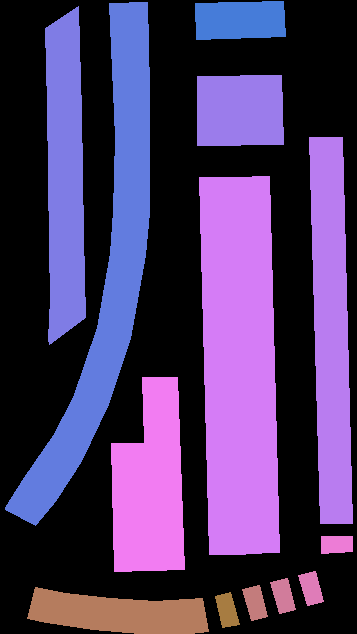parkingspot: (5, 2, 149, 525), (233, 176, 279, 553), (199, 177, 245, 554), (309, 137, 352, 523), (45, 6, 85, 344), (27, 587, 208, 634), (142, 377, 184, 570), (111, 443, 149, 571), (195, 1, 285, 39), (197, 108, 283, 145), (197, 75, 282, 111), (270, 578, 295, 613), (242, 585, 267, 620), (298, 571, 323, 605), (215, 592, 239, 627), (321, 536, 352, 553)
